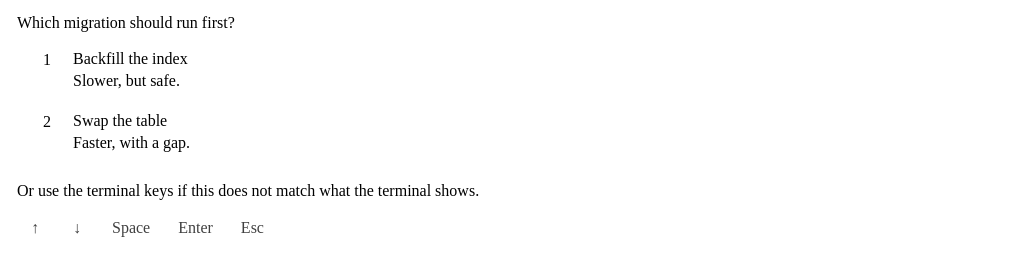
Scenario: INV-16 the card names only what the transcript named › claims nothing and spends nothing when the socket is closing under an open conn
Click the button with test id "answer-option" that starts with "Backfill the index": x=130, y=58 [17,42,997,98]
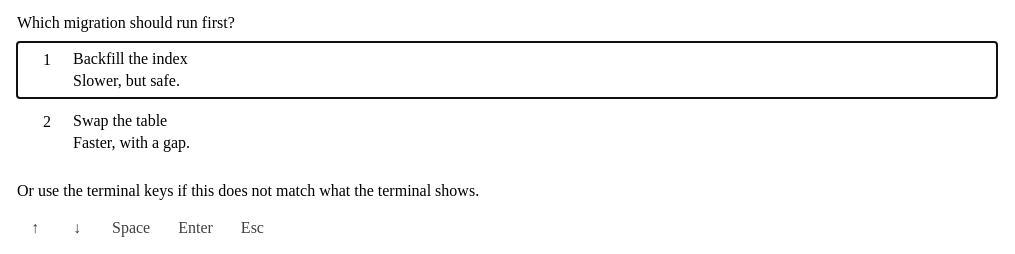
Click the button with test id "answer-option" that starts with "Backfill the index": x=130, y=58 [17,42,997,98]
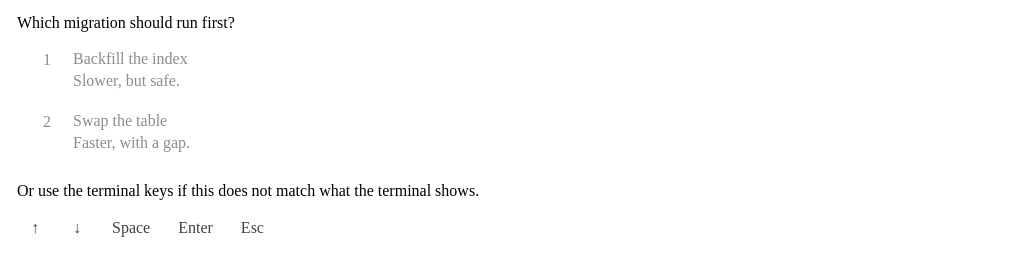
Now the button with test id "answer-option" that starts with "Backfill the index" is disabled, box [17,42,997,98]
